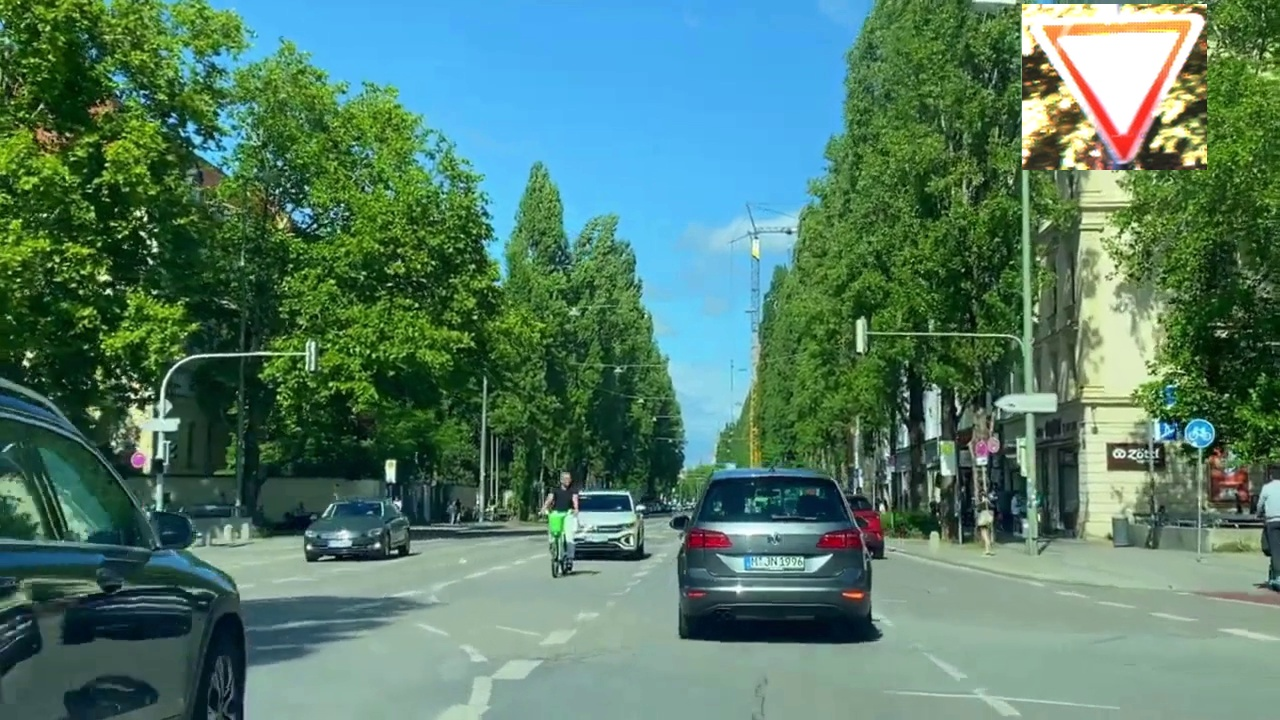Yield: (1022, 4, 1207, 170)
